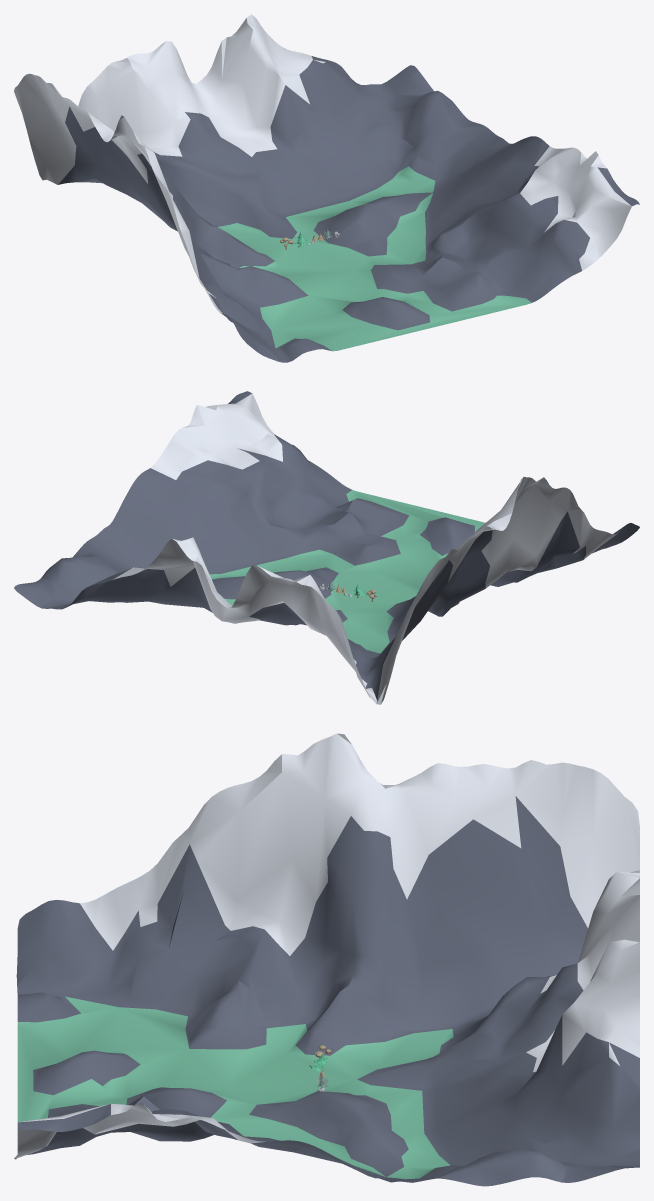
The model's file is Terrain.fbx.
The picture shows the model from 3 angles, top to bottom: view 1: azimuth 30°, elevation 25°; view 2: azimuth 150°, elevation 25°; view 3: azimuth 270°, elevation 25°; orthographic projection. The views are drawn at different scales.
Visible parts, largest first — view 1: Terrain_2; view 2: Terrain_2; view 3: Terrain_2.
Part boxes in pixels (bbox=[...]): Terrain_2: bbox=[14, 14, 639, 362]; Terrain_2: bbox=[14, 391, 639, 704]; Terrain_2: bbox=[14, 733, 639, 1186].
Bounding box in the file's own units: 25007 × 10212 × 25146.
